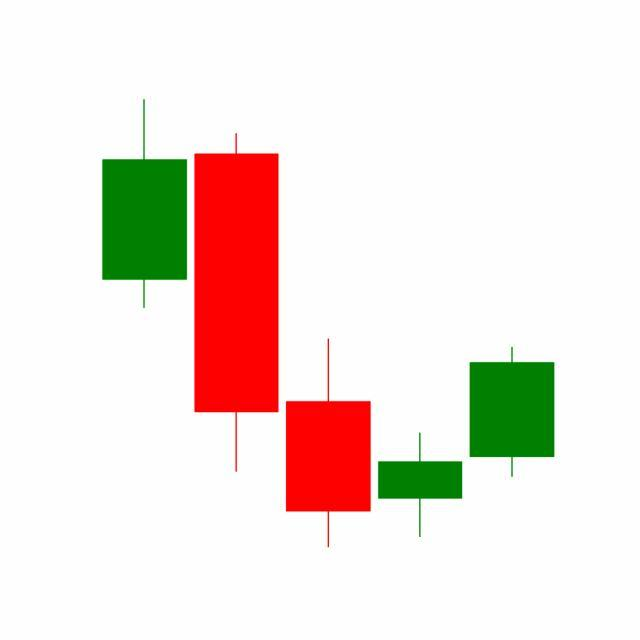Three Inside Up-Down: (280, 335, 555, 548)
